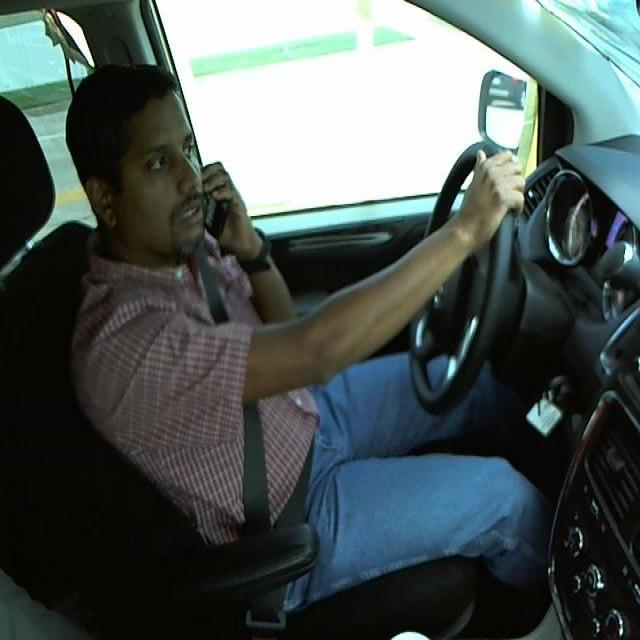using_phone: (31, 42, 306, 302)
